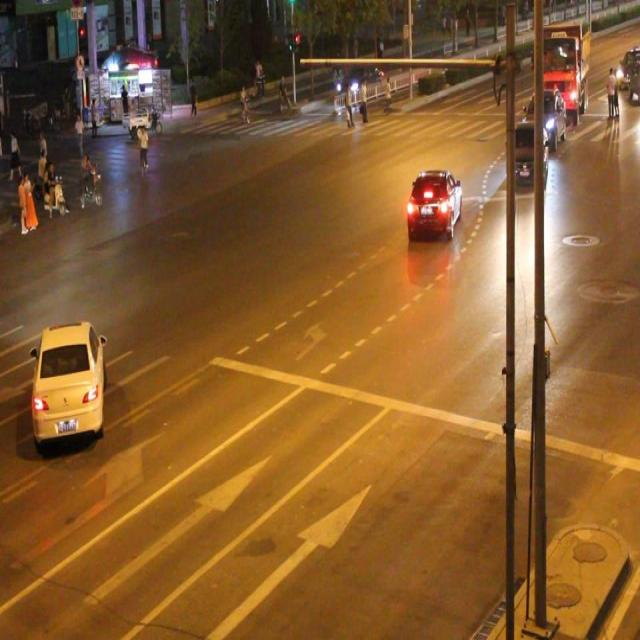car: (31, 321, 106, 439), (404, 167, 461, 241), (506, 122, 546, 186)
